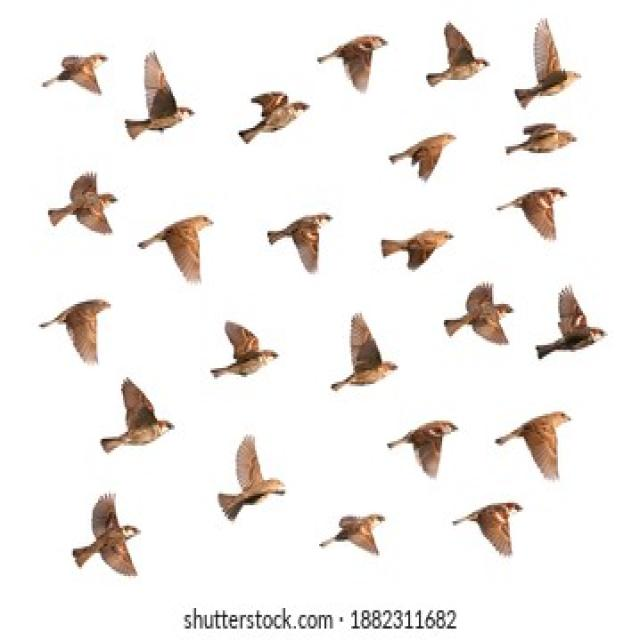bird: (492, 407, 581, 484), (122, 54, 200, 141), (72, 495, 147, 581), (326, 316, 402, 397), (535, 284, 611, 362), (419, 21, 495, 96), (136, 211, 210, 288), (251, 208, 330, 276), (232, 89, 317, 152), (50, 170, 126, 240), (205, 319, 283, 386), (313, 32, 393, 96), (495, 184, 576, 247), (107, 377, 172, 450), (451, 282, 520, 350), (38, 298, 106, 365), (388, 417, 461, 479), (453, 498, 527, 558), (380, 225, 459, 276), (39, 50, 115, 102), (388, 132, 460, 184), (319, 512, 394, 561), (213, 482, 287, 525)
